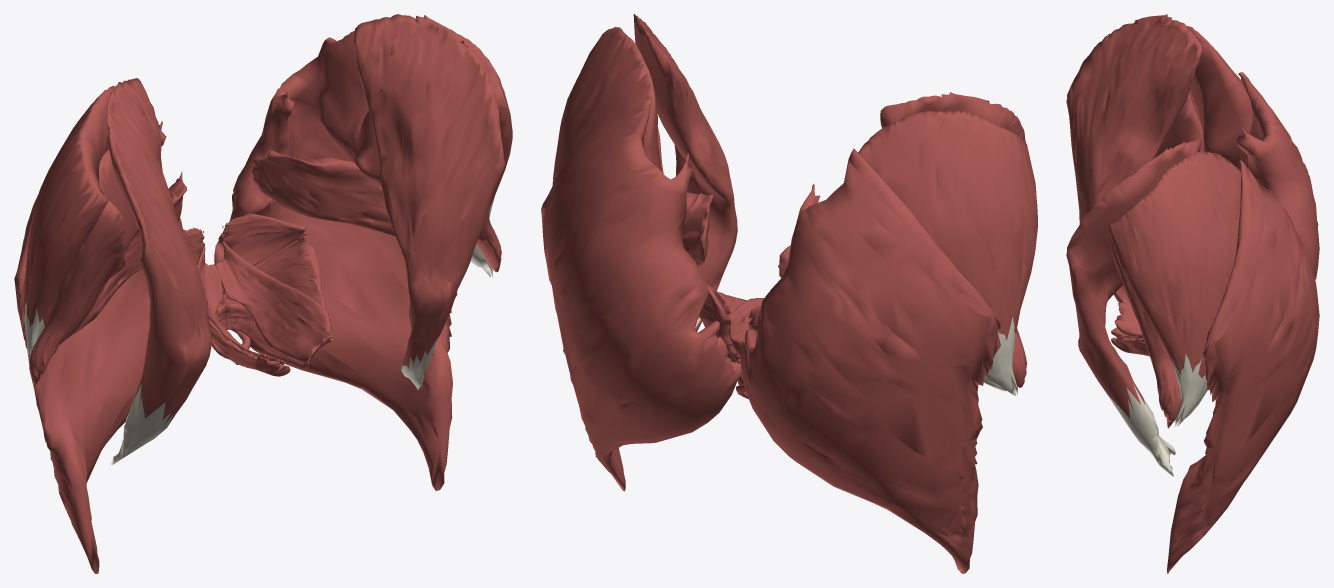
File: muscular-pelvis-balanced.glb
The picture shows the model from 3 angles, left to right: view 1: azimuth 30°, elevation 25°; view 2: azimuth 150°, elevation 25°; view 3: azimuth 270°, elevation 25°; orthographic projection. The views are drawn at different scales.
Visible parts, largest first — view 1: za.iliacus-muscle-l, za.gluteus-maximus-muscle-l, za.iliacus-muscle-r, za.gluteus-maximus-muscle-r, za.gluteus-medius-muscle-r, za.gluteus-minimus-muscle-r, za.piriformis-muscle-l, za.pubococcygeus-muscle-l, za.gluteus-medius-muscle-l, za.coccygeus-muscle-l, za.iliococcygeus-muscle-l, za.gluteus-minimus-muscle-l (+4 smaller); view 2: za.gluteus-maximus-muscle-r, za.gluteus-maximus-muscle-l, za.gluteus-medius-muscle-r, za.iliacus-muscle-l, za.gluteus-medius-muscle-l, za.iliacus-muscle-r, za.piriformis-muscle-l, za.coccygeus-muscle-l, za.pubococcygeus-muscle-l; view 3: za.gluteus-maximus-muscle-l, za.gluteus-medius-muscle-l, za.iliacus-muscle-r, za.iliacus-muscle-l, za.gluteus-maximus-muscle-r, za.gluteus-medius-muscle-r, za.gluteus-minimus-muscle-l, za.gluteus-minimus-muscle-r, za.pubococcygeus-muscle-r, za.pubo-analis-muscle-l.
Boxes of the visible parts, x1=… form: za.iliacus-muscle-l: x1=354, y1=14, x2=504, y2=389; za.gluteus-maximus-muscle-l: x1=214, y1=37, x2=457, y2=490; za.iliacus-muscle-r: x1=107, y1=78, x2=211, y2=464; za.gluteus-maximus-muscle-r: x1=14, y1=121, x2=182, y2=573; za.gluteus-medius-muscle-r: x1=23, y1=85, x2=116, y2=388; za.gluteus-minimus-muscle-r: x1=29, y1=150, x2=139, y2=384; za.piriformis-muscle-l: x1=252, y1=150, x2=395, y2=236; za.pubococcygeus-muscle-l: x1=215, y1=241, x2=332, y2=363; za.gluteus-medius-muscle-l: x1=317, y1=29, x2=512, y2=277; za.coccygeus-muscle-l: x1=222, y1=213, x2=307, y2=265; za.iliococcygeus-muscle-l: x1=222, y1=236, x2=331, y2=329; za.gluteus-minimus-muscle-l: x1=355, y1=110, x2=501, y2=272; za.gluteus-maximus-muscle-r: x1=740, y1=148, x2=1000, y2=573; za.gluteus-maximus-muscle-l: x1=541, y1=99, x2=741, y2=491; za.gluteus-medius-muscle-r: x1=858, y1=110, x2=1037, y2=395; za.iliacus-muscle-l: x1=633, y1=14, x2=737, y2=331; za.gluteus-medius-muscle-l: x1=552, y1=27, x2=661, y2=185; za.iliacus-muscle-r: x1=880, y1=92, x2=1026, y2=143; za.piriformis-muscle-l: x1=681, y1=192, x2=713, y2=265; za.coccygeus-muscle-l: x1=699, y1=284, x2=740, y2=360; za.pubococcygeus-muscle-l: x1=728, y1=298, x2=763, y2=356; za.gluteus-maximus-muscle-l: x1=1167, y1=159, x2=1319, y2=573; za.gluteus-medius-muscle-l: x1=1109, y1=151, x2=1241, y2=427; za.iliacus-muscle-r: x1=1066, y1=14, x2=1202, y2=302; za.iliacus-muscle-l: x1=1066, y1=139, x2=1201, y2=476; za.gluteus-maximus-muscle-r: x1=1167, y1=72, x2=1319, y2=428; za.gluteus-medius-muscle-r: x1=1172, y1=20, x2=1253, y2=171; za.gluteus-minimus-muscle-l: x1=1110, y1=237, x2=1182, y2=421; za.gluteus-minimus-muscle-r: x1=1155, y1=90, x2=1204, y2=157; za.pubococcygeus-muscle-r: x1=1114, y1=301, x2=1141, y2=335; za.pubo-analis-muscle-l: x1=1111, y1=335, x2=1149, y2=356.
Bounding box in the file's own units: 0.3006 × 0.2941 × 0.1608.
